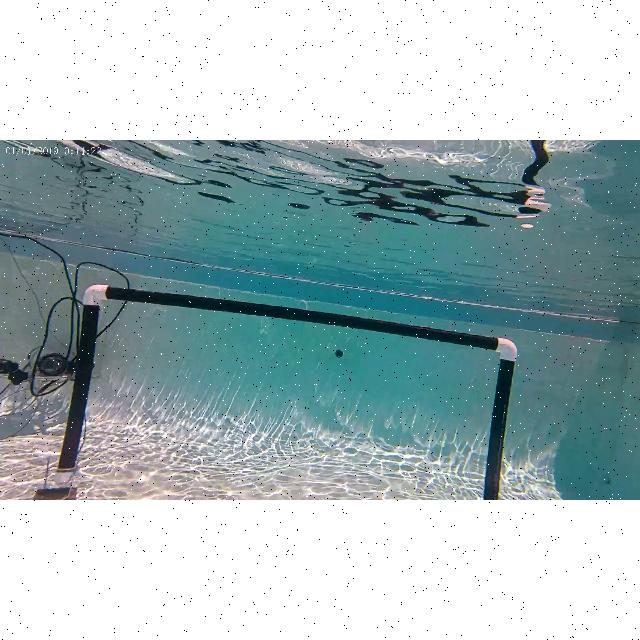prequal gate: (58, 284, 516, 500)
prequal gate leg l: (53, 282, 115, 498)
prequal gate leg r: (480, 330, 518, 500)
